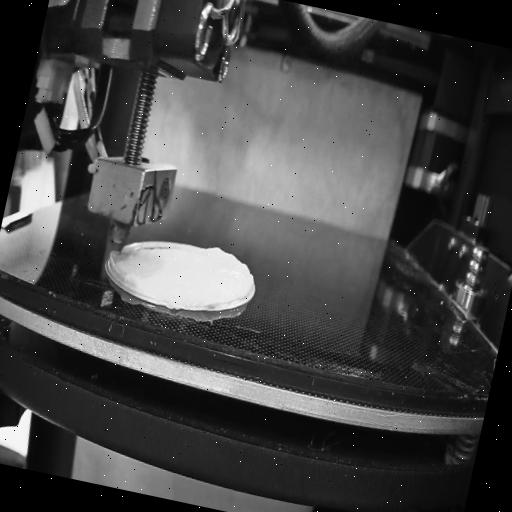over_extrusion: (198, 242, 262, 302), (104, 248, 132, 281)
